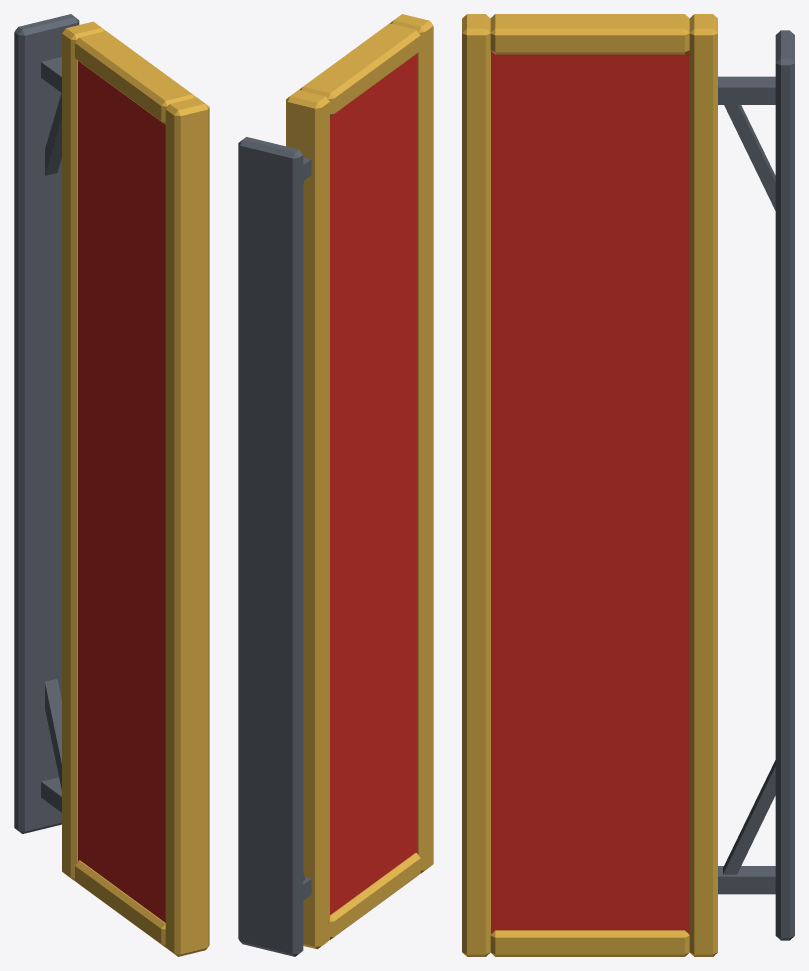
File: sign_vertical.glb
3 renders of one model, left to right at view 1: azimuth 30°, elevation 25°; view 2: azimuth 150°, elevation 25°; view 3: azimuth 270°, elevation 25°, orthographic. The views are drawn at different scales.
Parts seen in each view (by area): view 1: sign_vertical; view 2: sign_vertical; view 3: sign_vertical.
Boxes of the visible parts, x1=… form: sign_vertical: x1=14, y1=14, x2=209, y2=956; sign_vertical: x1=238, y1=14, x2=433, y2=956; sign_vertical: x1=462, y1=14, x2=794, y2=956.
Size of the model in its own units: 0.12 by 1.6 by 0.52.
